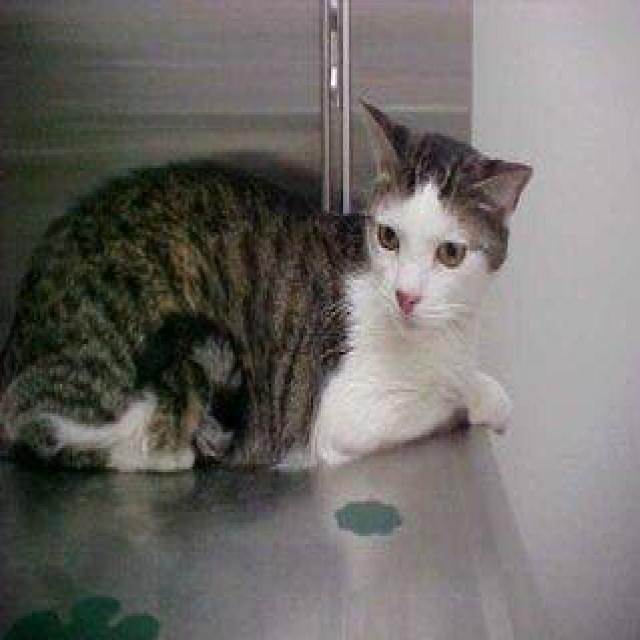cat: (0, 93, 532, 475)
